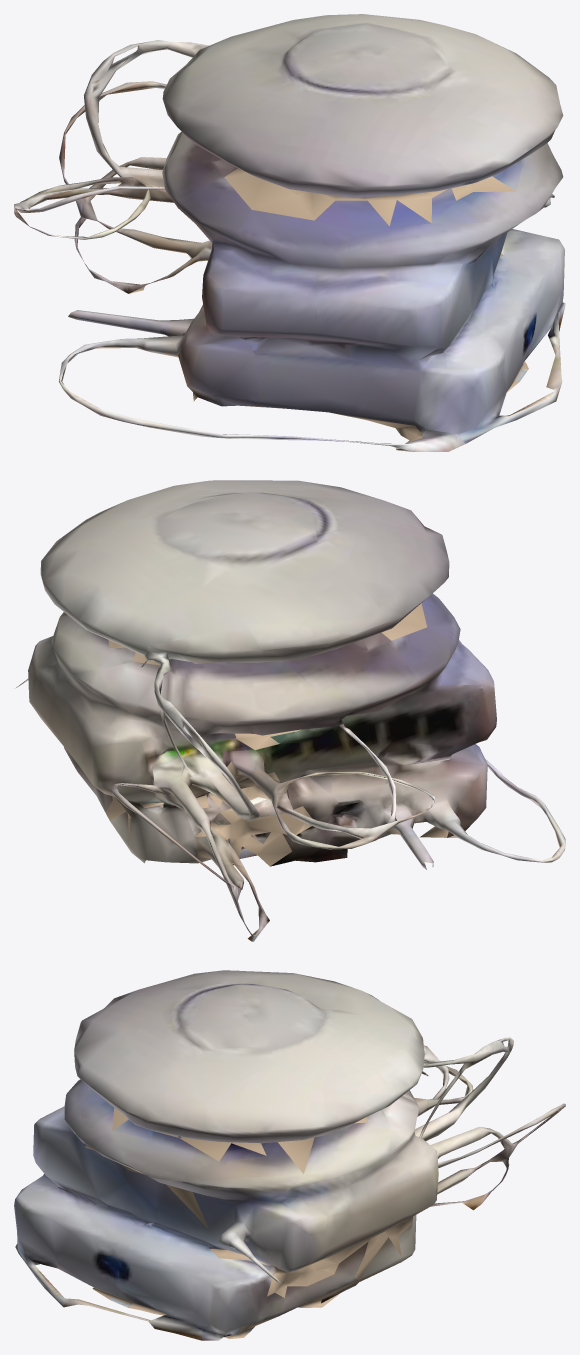
File: scan.glb
The picture shows the model from 3 angles, top to bottom: view 1: azimuth 30°, elevation 25°; view 2: azimuth 150°, elevation 25°; view 3: azimuth 270°, elevation 25°; orthographic projection. The views are drawn at different scales.
Visible parts, largest first — view 1: mesh_lowpoly_material0000, mesh_lowpoly_material0001, mesh_lowpoly_material0002; view 2: mesh_lowpoly_material0000, mesh_lowpoly_material0001, mesh_lowpoly_material0002; view 3: mesh_lowpoly_material0000, mesh_lowpoly_material0001.
Part boxes in pixels (box(x1,y1,x2,y2)): mesh_lowpoly_material0000: box(14, 14, 565, 451); mesh_lowpoly_material0001: box(30, 85, 562, 438); mesh_lowpoly_material0002: box(14, 45, 558, 368); mesh_lowpoly_material0000: box(16, 480, 565, 941); mesh_lowpoly_material0001: box(110, 646, 558, 918); mesh_lowpoly_material0002: box(140, 518, 482, 934); mesh_lowpoly_material0000: box(14, 970, 565, 1340); mesh_lowpoly_material0001: box(147, 1102, 508, 1332).
Size of the model in its own units: 2.17 by 1.19 by 2.29.
4 materials, 4 textured.
